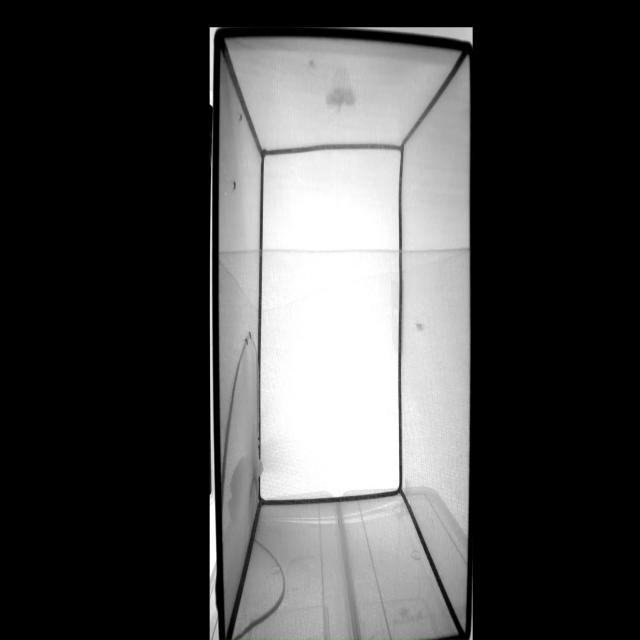Mosquito: (306, 55, 318, 74), (414, 319, 426, 338), (236, 106, 245, 125), (231, 178, 238, 195), (243, 338, 249, 350), (247, 329, 253, 341)
